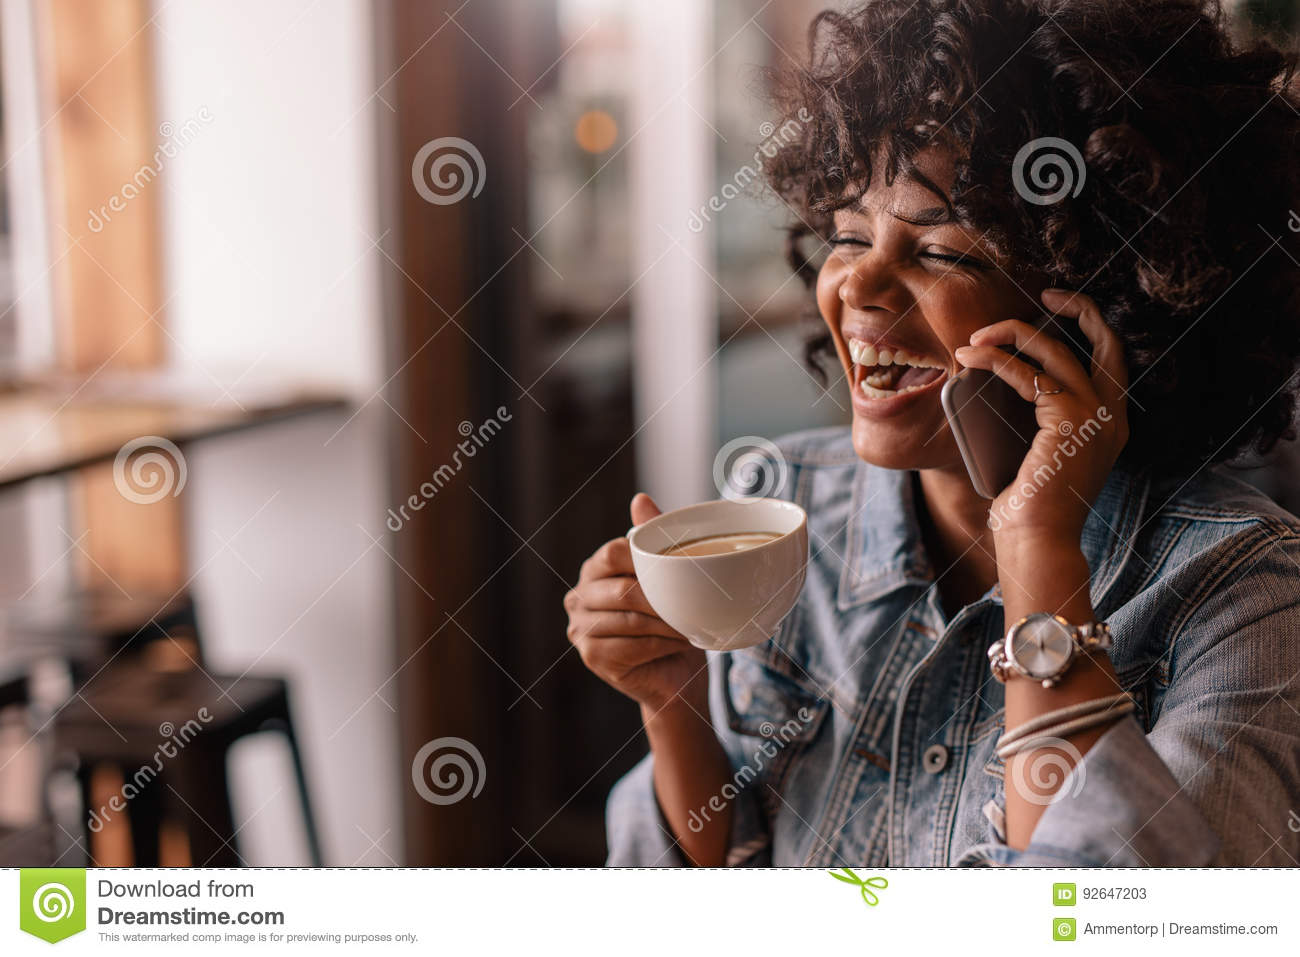phone: (942, 286, 1100, 509)
talk: (814, 186, 1134, 586)
